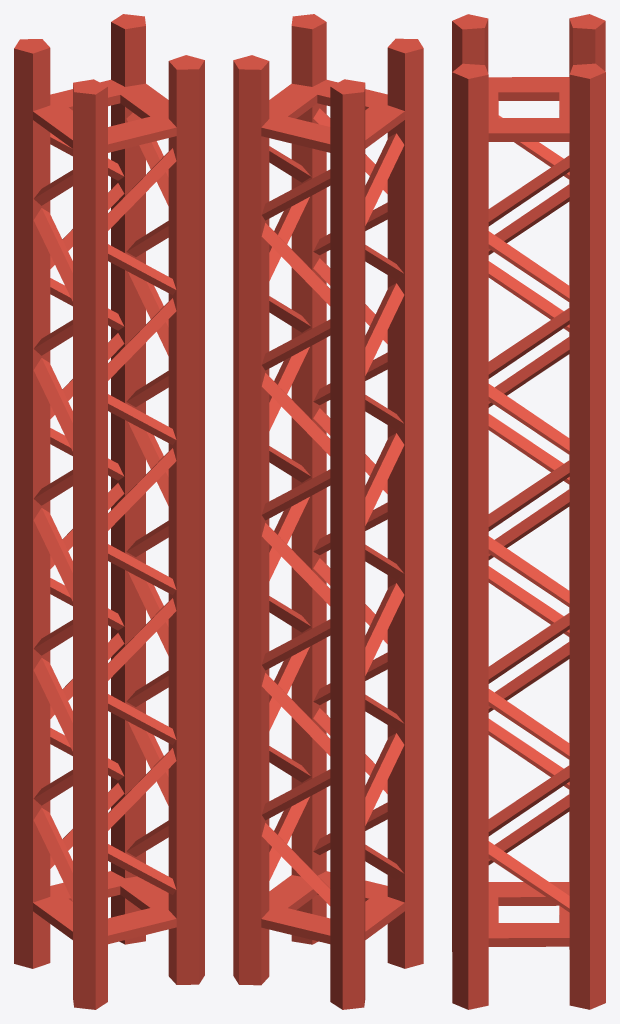
File: SM_Truss_Steel_2m.fbx
The picture shows the model from 3 angles, left to right: view 1: azimuth 30°, elevation 25°; view 2: azimuth 150°, elevation 25°; view 3: azimuth 270°, elevation 25°; orthographic projection.
Visible parts, largest first — view 1: SM_Truss_Steel_2m; view 2: SM_Truss_Steel_2m; view 3: SM_Truss_Steel_2m.
Part boxes in pixels (bbox=[...]): SM_Truss_Steel_2m: bbox=[14, 14, 204, 1009]; SM_Truss_Steel_2m: bbox=[233, 14, 423, 1009]; SM_Truss_Steel_2m: bbox=[452, 14, 605, 1009].
Size of the model in its own units: 29.98 by 29.98 by 200.
